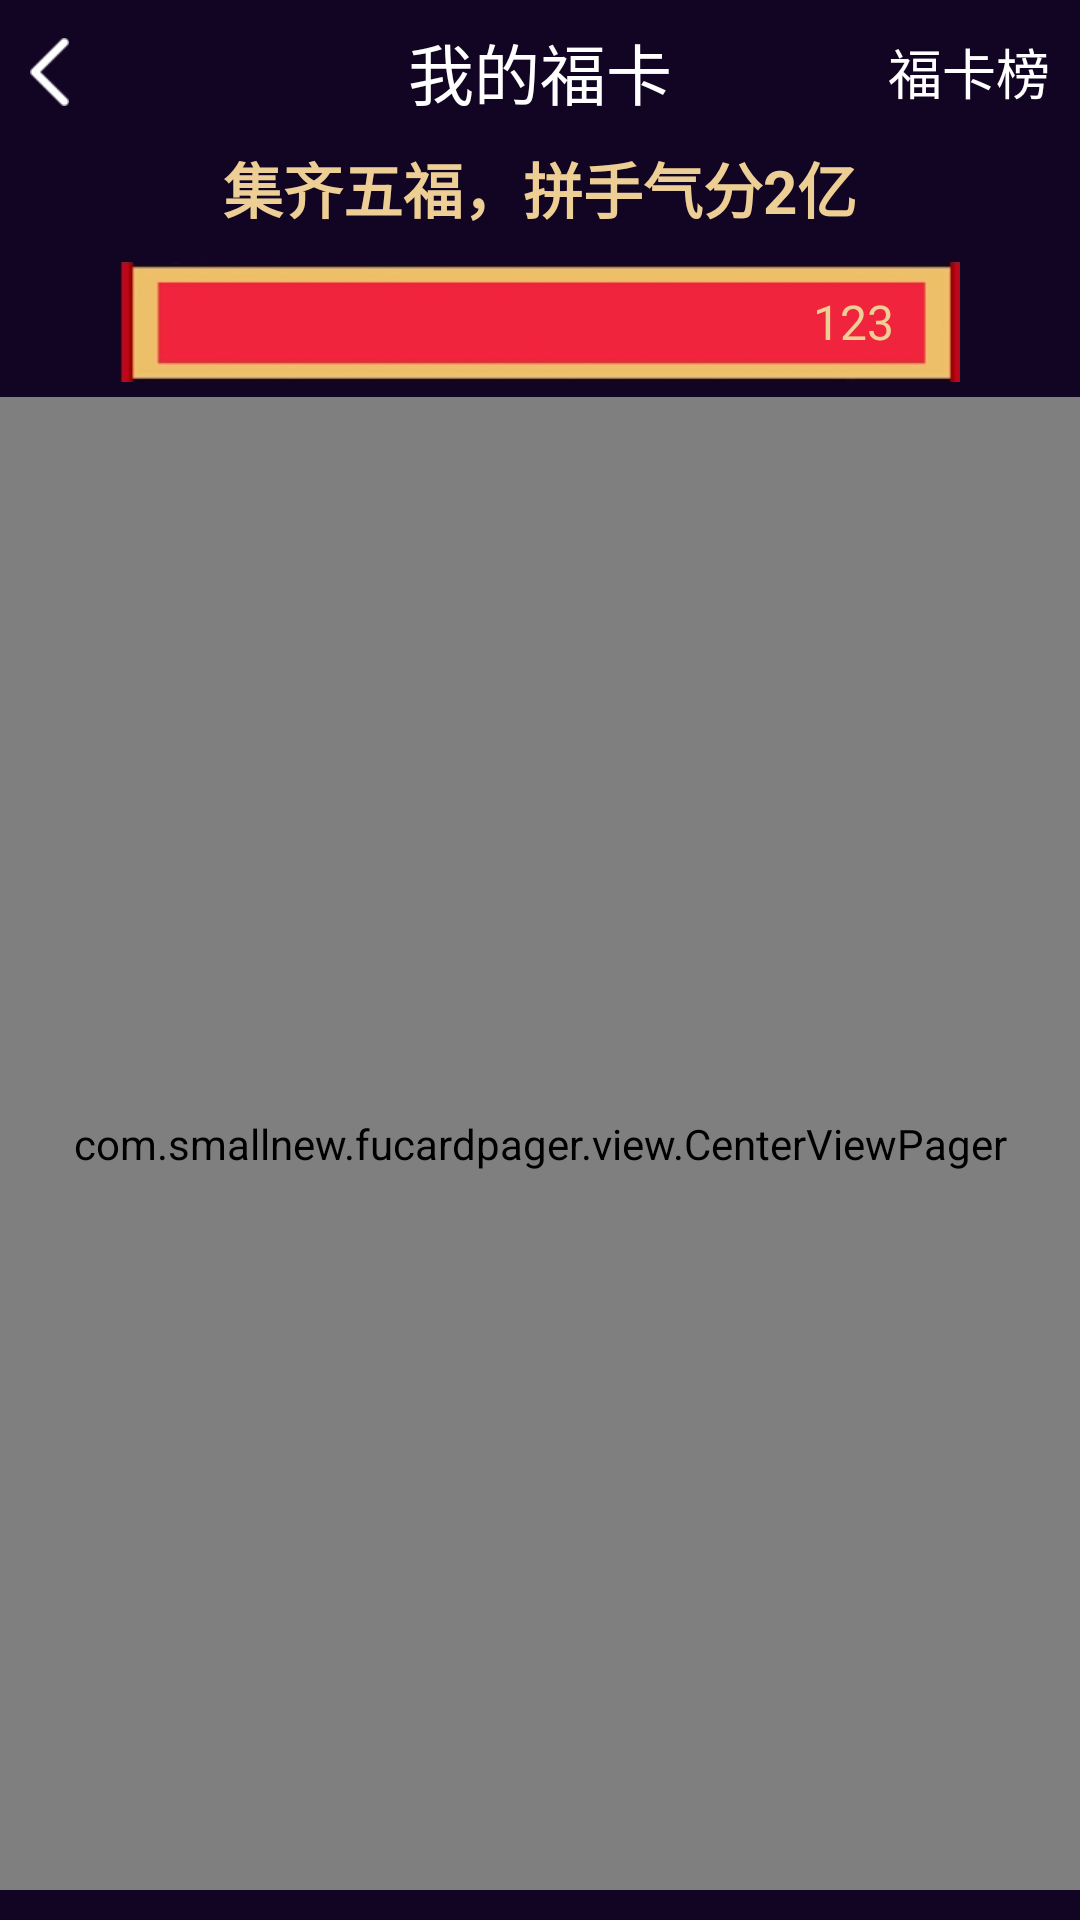

Screen size 1080 × 1920. Icon name, then its center in pixels as [x,y]:
back: [49,72]
